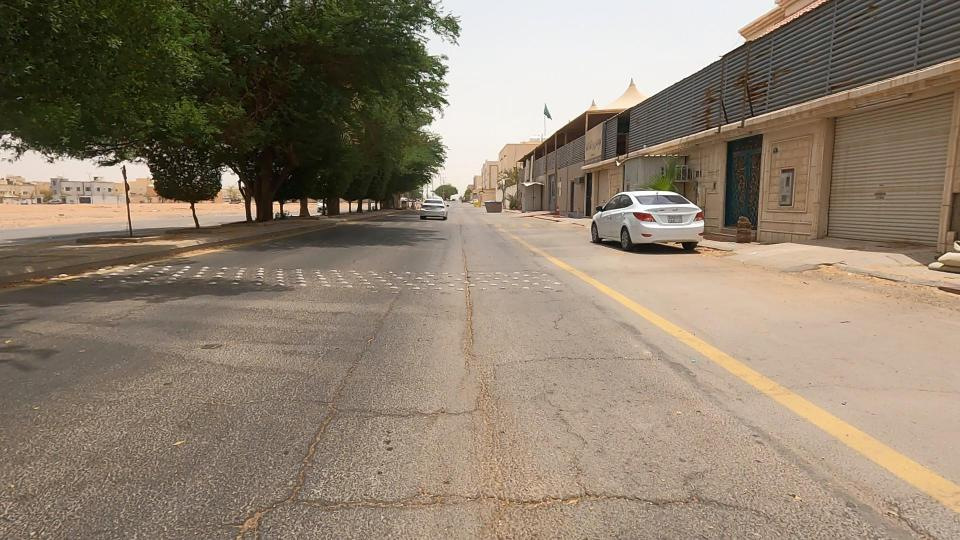POTHOLES: (242, 363, 404, 540), (416, 321, 544, 538), (420, 225, 514, 389)
